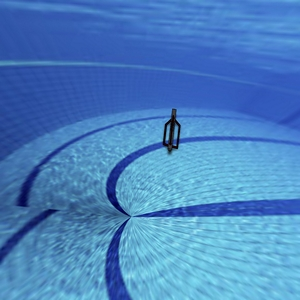submarine: (143, 88, 192, 161)
